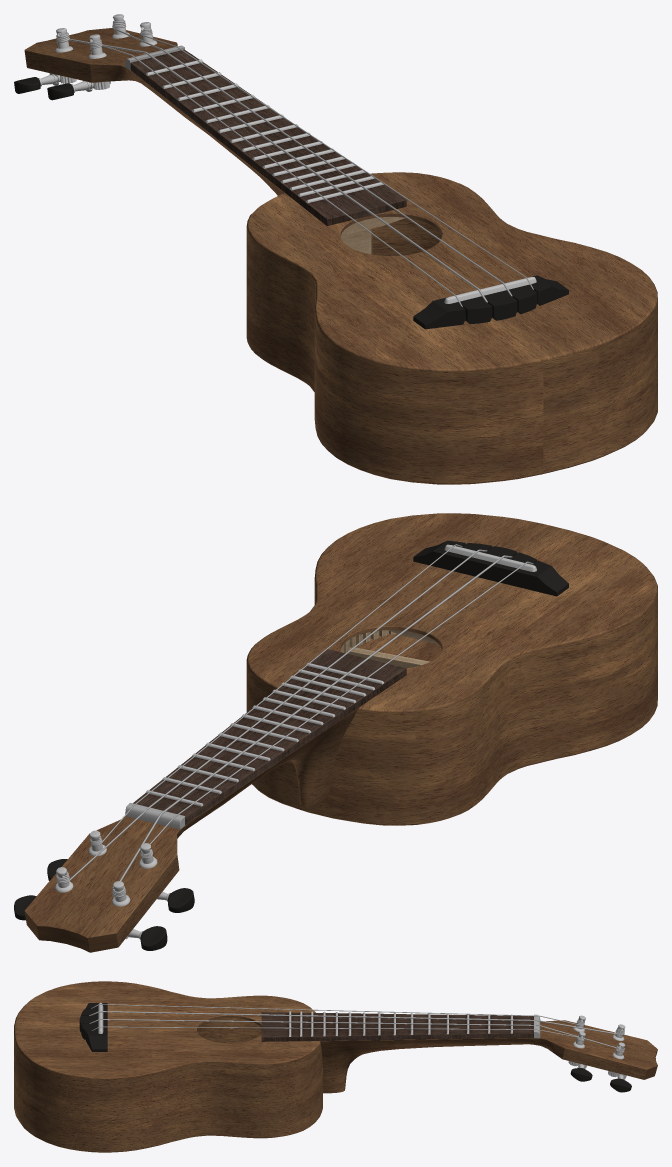
File: ukulele.obj
3 renders of one model, top to bottom at view 1: azimuth 30°, elevation 25°; view 2: azimuth 150°, elevation 25°; view 3: azimuth 270°, elevation 25°, orthographic. The views are drawn at different scales.
Visible parts, largest first — view 1: Ukulele; view 2: Ukulele; view 3: Ukulele.
Boxes of the visible parts, x1,y1,x2,y2 form: Ukulele: [14, 14, 657, 484]; Ukulele: [14, 513, 657, 952]; Ukulele: [14, 981, 657, 1152].
Size of the model in its own units: 0.1966 by 0.0845 by 0.5497.
1 material, 1 textured.
